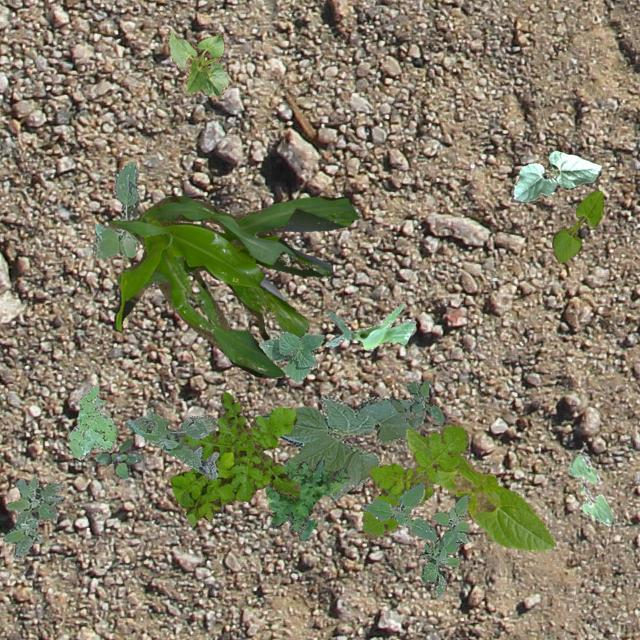crop: (108, 195, 358, 376), (404, 426, 554, 550), (262, 392, 424, 500), (510, 148, 600, 202), (166, 29, 227, 98), (324, 302, 414, 348), (550, 190, 602, 262), (566, 452, 614, 526), (258, 331, 322, 382)
weed: (170, 392, 300, 526), (360, 421, 468, 536), (362, 482, 468, 598), (264, 456, 350, 540), (124, 408, 218, 480), (1, 476, 64, 558), (90, 160, 138, 258), (66, 384, 116, 458), (388, 378, 442, 426), (95, 437, 142, 478)
